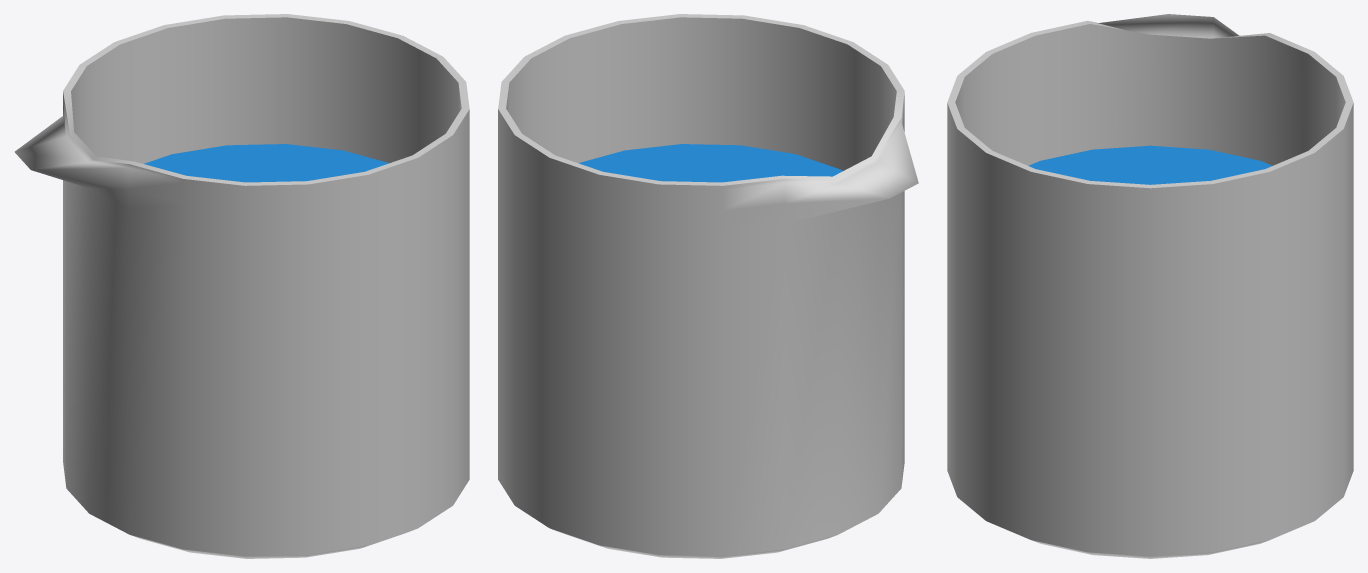
The model's file is Beaker.fbx.
3 views of the same model, side by side, from view 1: azimuth 30°, elevation 25°; view 2: azimuth 150°, elevation 25°; view 3: azimuth 270°, elevation 25° (orthographic).
Parts seen in each view (by area): view 1: Beaker, Liquid; view 2: Beaker, Liquid; view 3: Beaker, Liquid.
Boxes of the visible parts, left/top/right/bottom form: Beaker: left=14, top=14, right=469, bottom=558; Liquid: left=144, top=144, right=388, bottom=182; Beaker: left=498, top=14, right=918, bottom=558; Liquid: left=578, top=144, right=842, bottom=182; Beaker: left=947, top=14, right=1353, bottom=558; Liquid: left=1028, top=145, right=1272, bottom=184.
Bounding box in the file's own units: 8.73 × 7.66 × 7.87.
